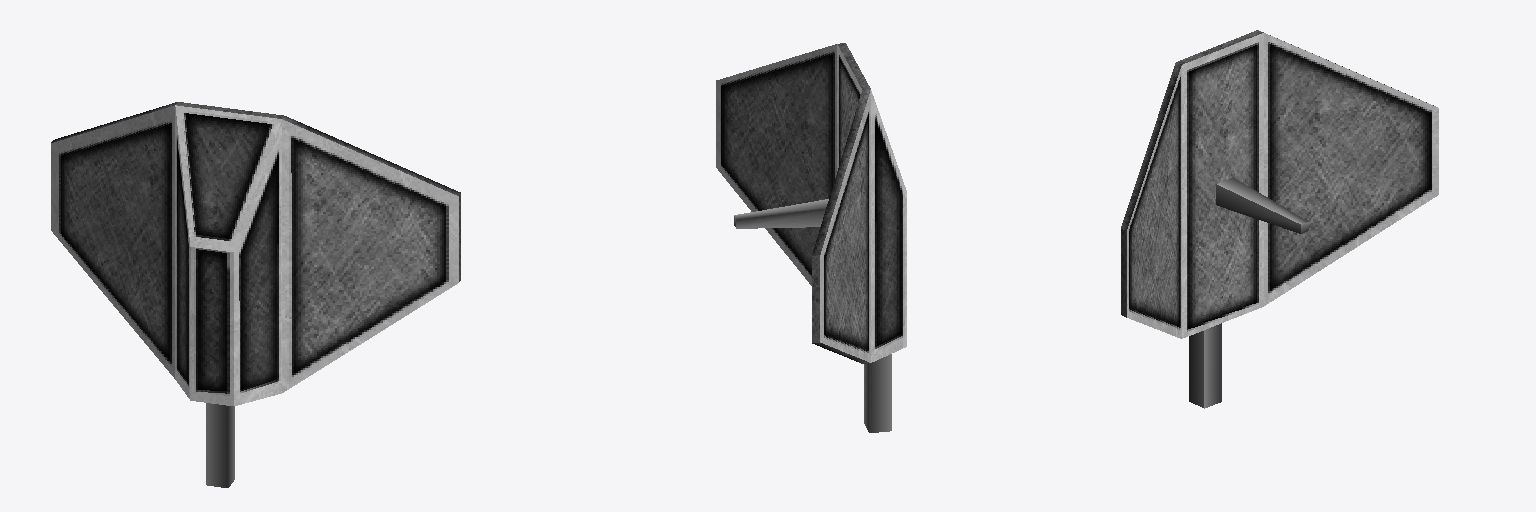
3 views of the same model, side by side, from view 1: azimuth 30°, elevation 25°; view 2: azimuth 150°, elevation 25°; view 3: azimuth 270°, elevation 25° (orthographic).
Parts seen in each view (by area): view 1: Cube.001; view 2: Cube.001; view 3: Cube.001.
Part boxes in pixels (x1,y1,x2,y2): Cube.001: (51, 102, 460, 487); Cube.001: (716, 43, 906, 432); Cube.001: (1121, 30, 1438, 408).
Size of the model in its own units: 1.01 by 1.36 by 1.08.
Materials: 1 (1 with a texture image).